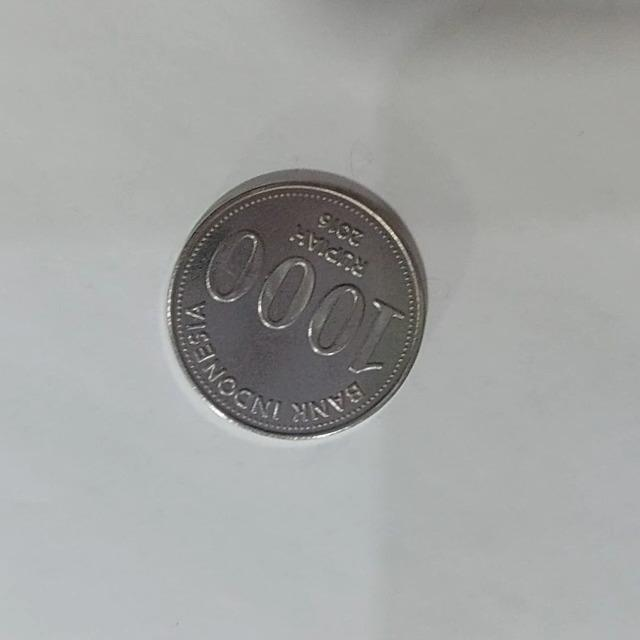Rp100: (163, 166, 429, 441)
